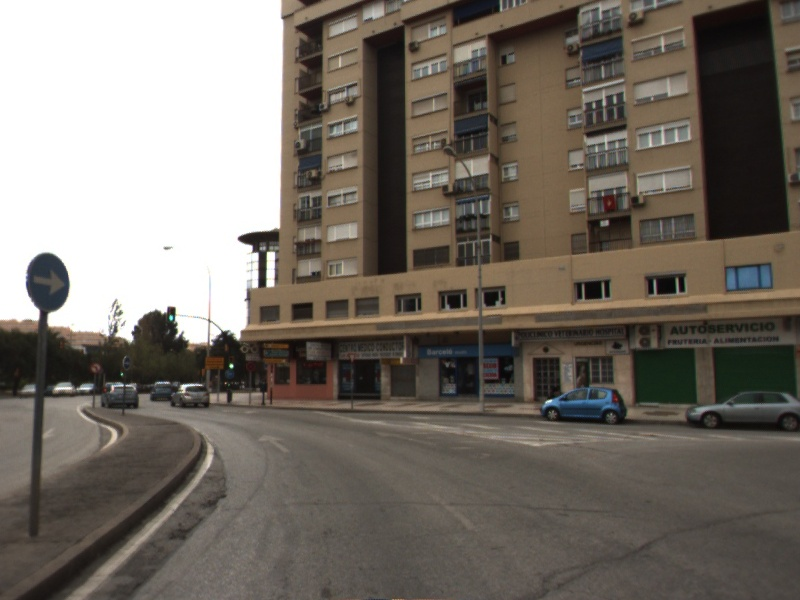STRAIGHT: (371, 428, 440, 449), (256, 432, 293, 455)
